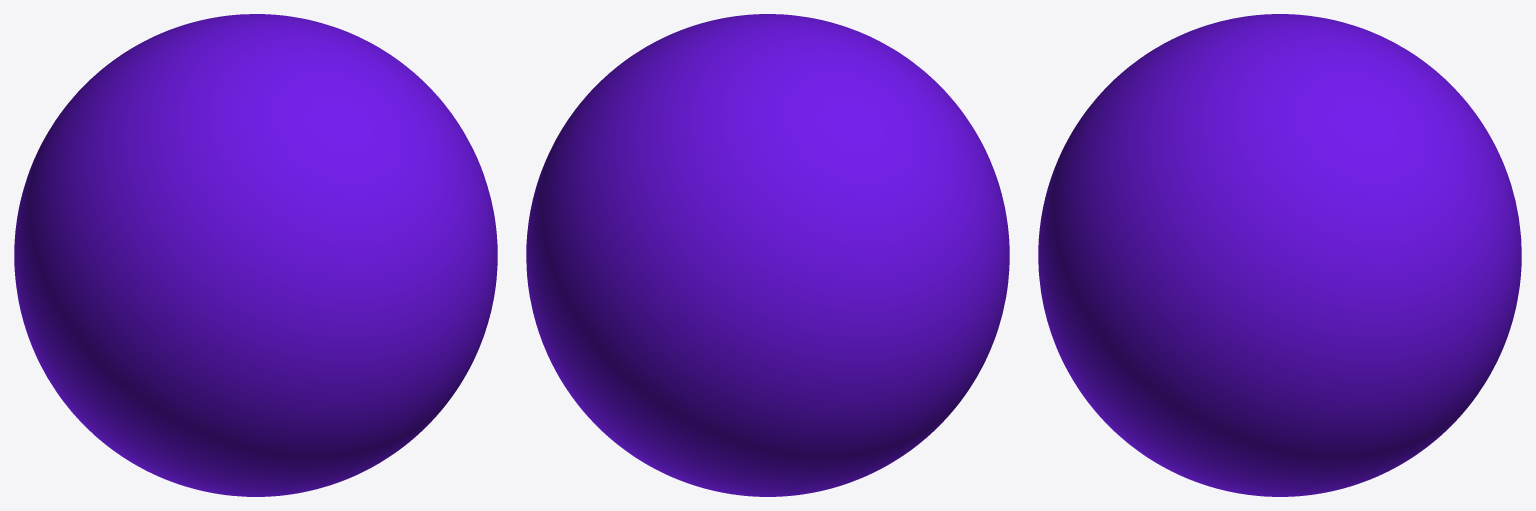
Rendered from 0-Bubble.fbx.
3 renders of one model, left to right at view 1: azimuth 30°, elevation 25°; view 2: azimuth 150°, elevation 25°; view 3: azimuth 270°, elevation 25°, orthographic.
Parts seen in each view (by area): view 1: Revolve [2553]; view 2: Revolve [2553]; view 3: Revolve [2553].
Part boxes in pixels (box(x1,y1,x2,y2)): Revolve [2553]: box(14, 14, 497, 496); Revolve [2553]: box(526, 14, 1009, 496); Revolve [2553]: box(1038, 14, 1521, 496).
Bounding box in the file's own units: 1002 × 1000 × 1002.
